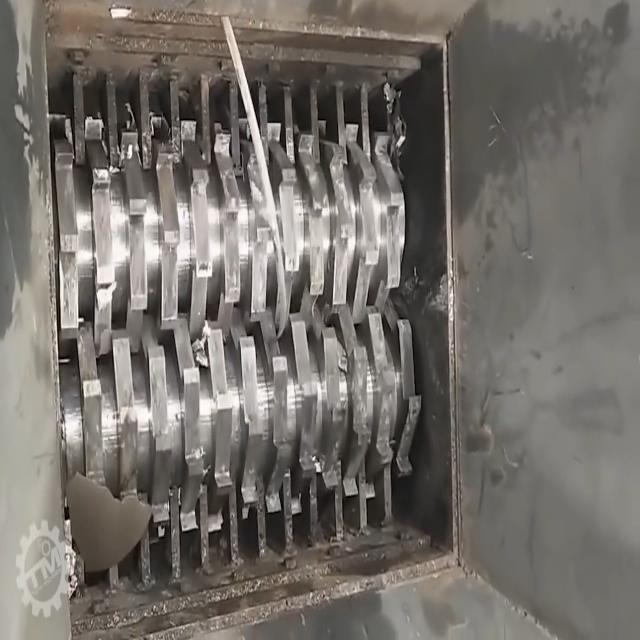Broyeur: (32, 0, 494, 640)
